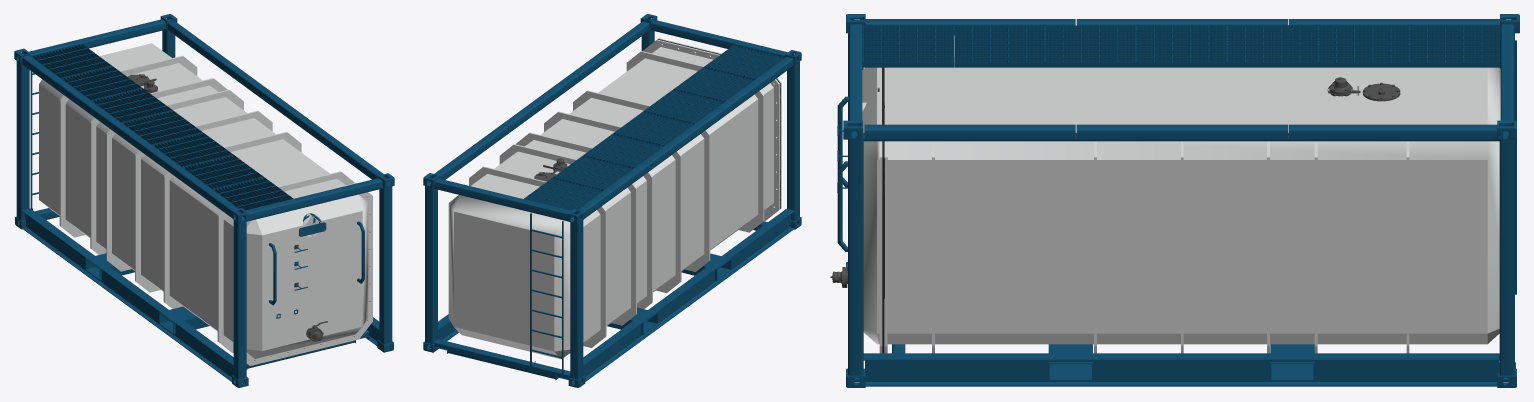
The model's file is kontejner5.glb.
3 renders of one model, left to right at view 1: azimuth 30°, elevation 25°; view 2: azimuth 150°, elevation 25°; view 3: azimuth 270°, elevation 25°, orthographic. The views are drawn at different scales.
Parts seen in each view (by area): view 1: Object_285, Object_317.011, Object_317.016, Object_317.036, Object_317.013, Object_317.030, Object_317.028, Object_317.019, Object_317.031, Object_317.029, Object_317.020, Object_317.032 (+11 smaller); view 2: Object_285, Object_317.011, Object_317.010, Object_317.016, Object_317.036, Object_317.002, Object_317.028, Object_317.031, Object_317.029, Object_317.020, Object_317.032, Object_317.030 (+10 smaller); view 3: Object_285, Object_317.016, Object_317.018, Object_317.019, Object_317.020, Object_317.028, Object_317.029, Object_317.030, Object_317.031, Object_317.032, Object_317.027, Object_317.026 (+9 smaller).
Boxes of the visible parts, x1,y1,x2,y2 form: Object_285: (39, 43, 372, 365); Object_317.011: (16, 61, 246, 381); Object_317.016: (162, 29, 392, 345); Object_317.036: (25, 214, 233, 376); Object_317.013: (246, 178, 383, 221); Object_317.030: (151, 132, 232, 166); Object_317.028: (91, 87, 172, 122); Object_317.019: (30, 43, 111, 78); Object_317.031: (182, 154, 263, 188); Object_317.029: (121, 110, 202, 144); Object_317.020: (60, 66, 141, 100); Object_317.032: (212, 176, 293, 210); Object_285: (448, 38, 781, 359); Object_317.011: (570, 61, 799, 381); Object_317.010: (433, 213, 570, 380); Object_317.016: (425, 28, 654, 343); Object_317.036: (583, 214, 790, 376); Object_317.002: (433, 178, 570, 221); Object_317.028: (584, 133, 664, 167); Object_317.031: (675, 66, 755, 100); Object_317.029: (614, 110, 695, 145); Object_317.020: (554, 155, 634, 189); Object_317.032: (705, 44, 785, 78); Object_317.030: (644, 88, 725, 123); Object_285: (862, 57, 1500, 353); Object_317.016: (848, 133, 1514, 386); Object_317.018: (865, 360, 1499, 381); Object_317.019: (1409, 25, 1500, 67); Object_317.020: (1318, 25, 1409, 67); Object_317.028: (1227, 25, 1318, 67); Object_317.029: (1136, 25, 1227, 67); Object_317.030: (1045, 25, 1136, 67); Object_317.031: (954, 25, 1045, 67); Object_317.032: (863, 25, 953, 67); Object_317.027: (863, 124, 1076, 141); Object_317.026: (1075, 124, 1288, 141).
Bounding box in the file's own units: 2.44 × 2.59 × 6.23.
